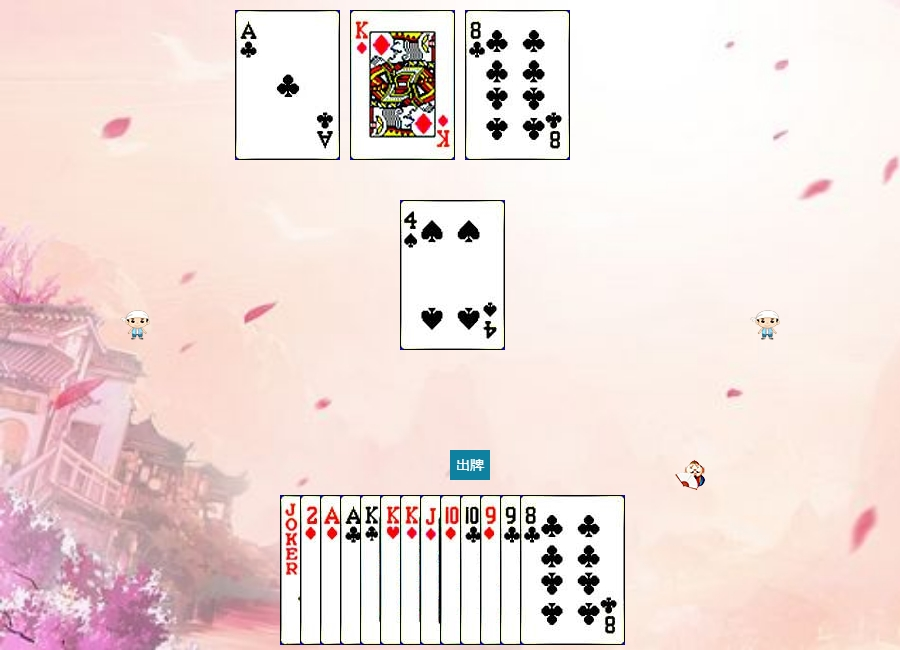10~1: (440, 495, 545, 645)
10~2: (460, 495, 565, 645)
11~1: (420, 495, 525, 645)
13~1: (350, 10, 455, 160), (400, 495, 505, 645)
13~2: (360, 495, 465, 645)
13~3: (380, 495, 485, 645)
14~1: (320, 495, 425, 645)
14~2: (235, 10, 340, 160), (340, 495, 445, 645)
15~1: (300, 495, 405, 645)
18~4: (280, 495, 385, 645)
4~4: (400, 200, 505, 350)
8~2: (465, 10, 570, 160), (520, 495, 625, 645)
9~1: (480, 495, 585, 645)
9~2: (500, 495, 605, 645)
